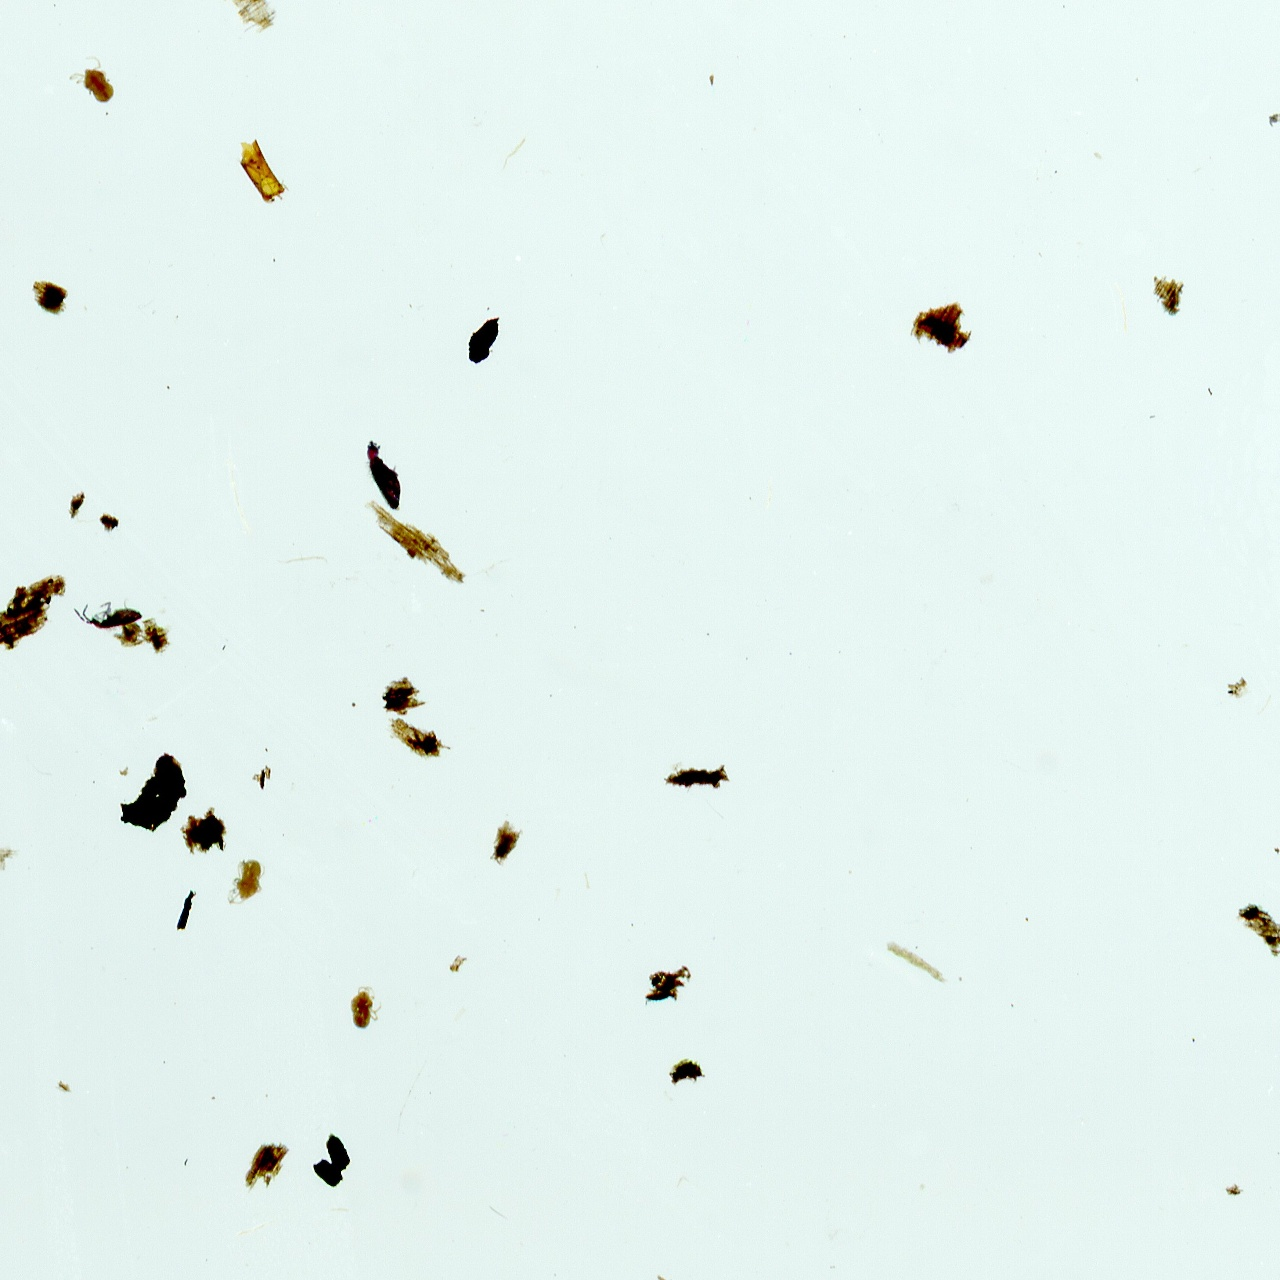arthropod: (363, 431, 408, 519), (69, 593, 145, 632), (68, 54, 121, 107), (225, 855, 268, 908), (347, 982, 384, 1032), (1265, 108, 1280, 129)
